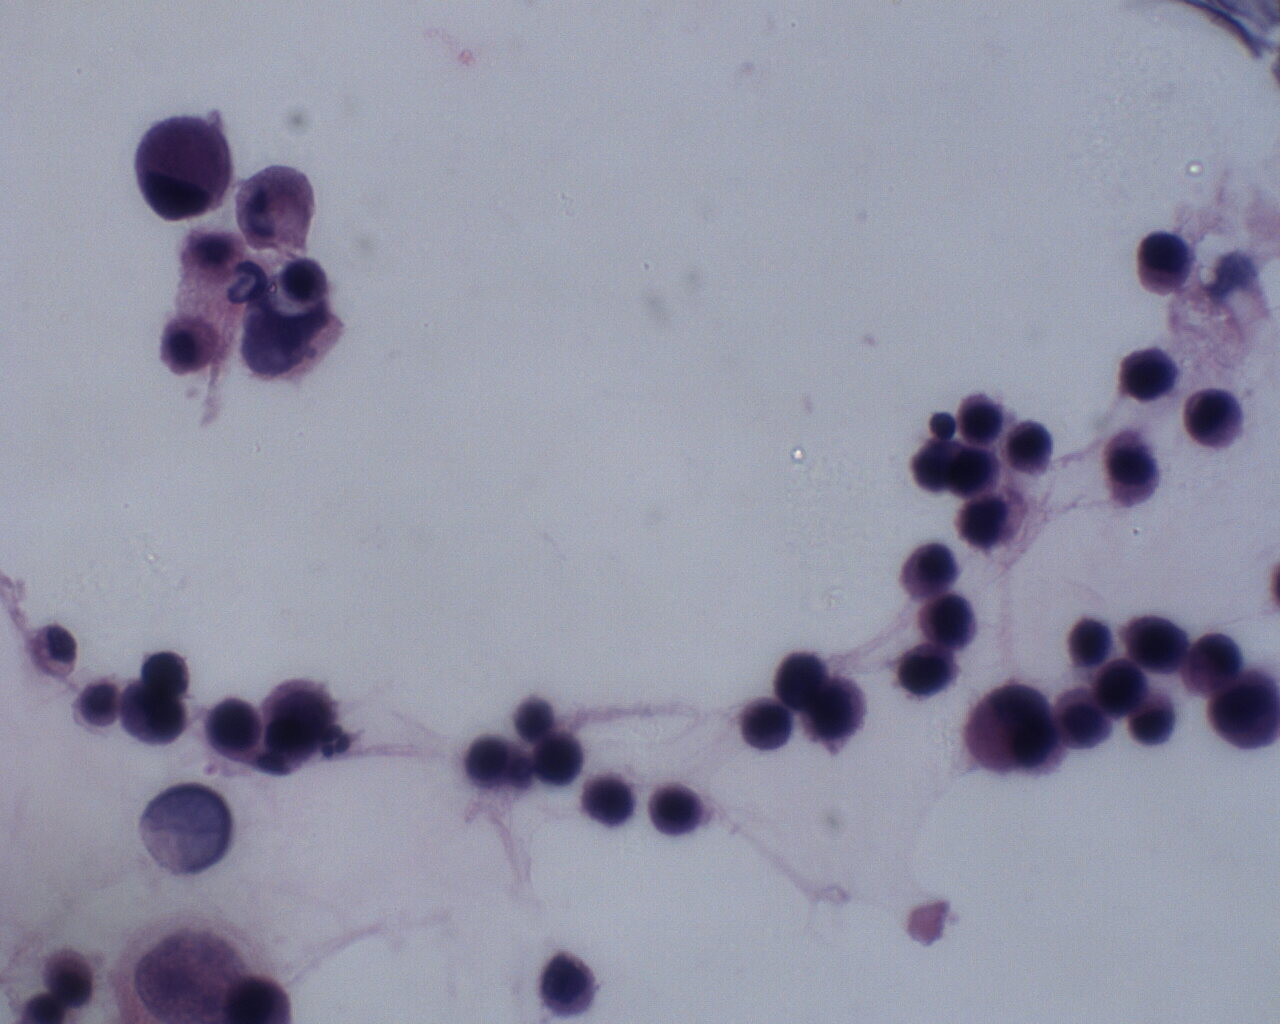ab: (134, 111, 233, 220), (963, 678, 1064, 782), (1202, 668, 1280, 762), (529, 950, 607, 1015), (1179, 382, 1248, 451), (1131, 228, 1198, 298), (115, 681, 189, 745), (1117, 345, 1185, 408), (1123, 612, 1190, 674), (203, 695, 264, 761), (645, 781, 706, 843), (532, 729, 590, 794), (768, 648, 829, 709), (920, 594, 985, 649), (901, 642, 962, 700), (737, 696, 795, 757), (1095, 657, 1149, 721), (1005, 416, 1058, 476), (957, 393, 1010, 446)
meso: (154, 312, 227, 385)
